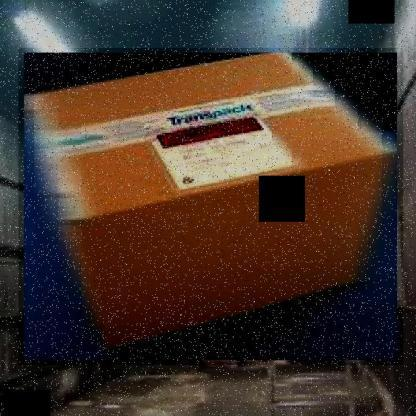-: (19, 48, 404, 365)
